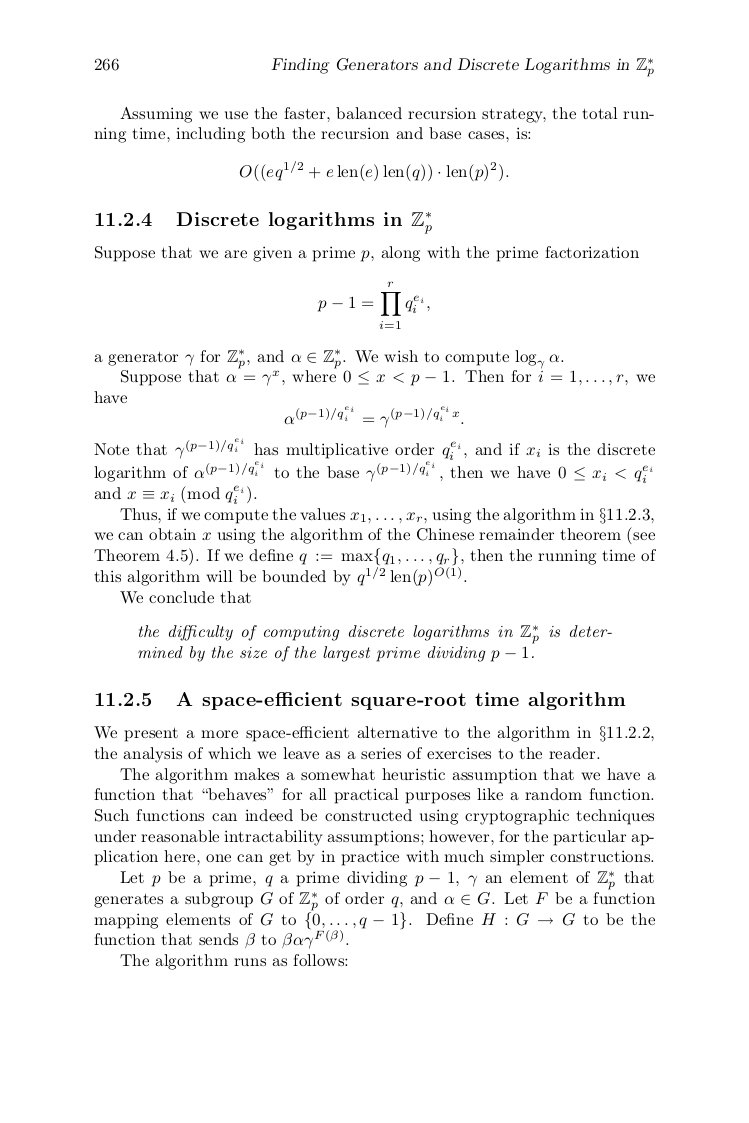formula: (239, 160, 508, 182), (317, 281, 429, 328), (284, 406, 463, 427)
